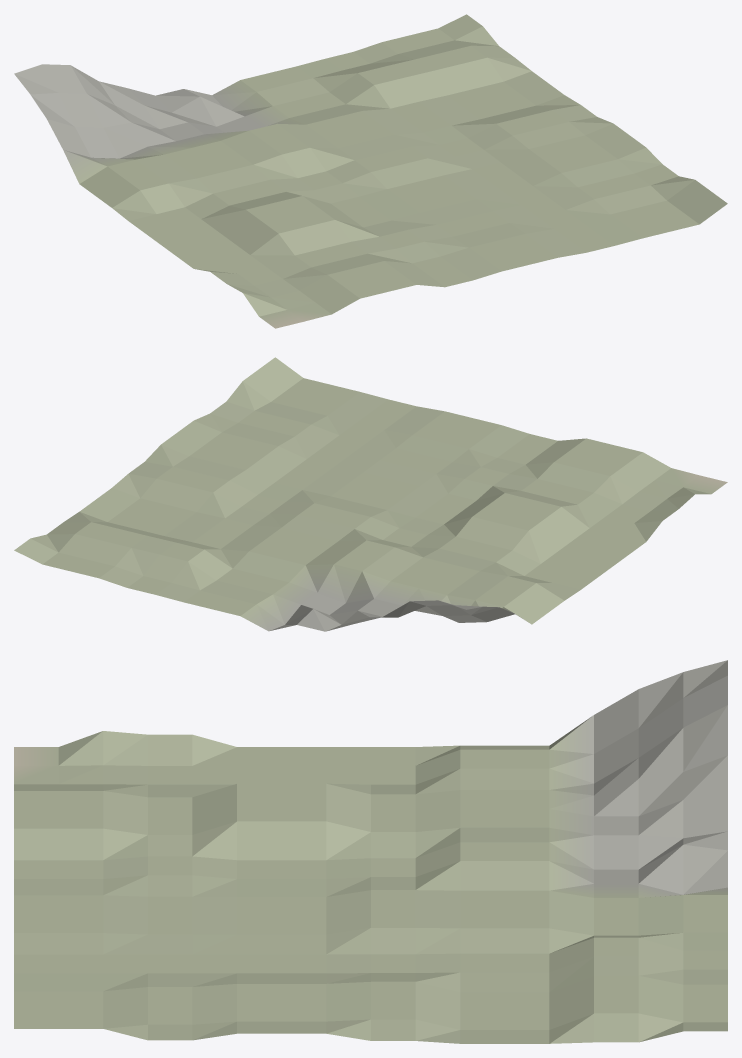
The picture shows the model from 3 angles, top to bottom: view 1: azimuth 30°, elevation 25°; view 2: azimuth 150°, elevation 25°; view 3: azimuth 270°, elevation 25°; orthographic projection. The views are drawn at different scales.
Bounding box in the file's own units: 32 × 5.26 × 32.
